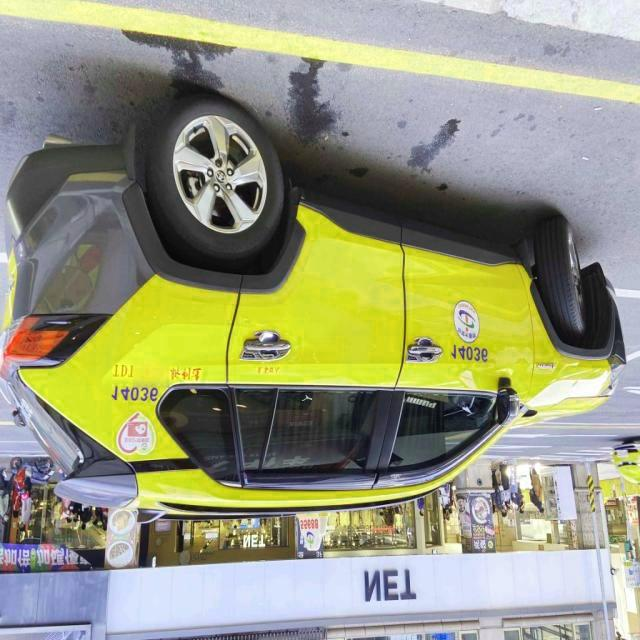taxi: (3, 86, 640, 523)
